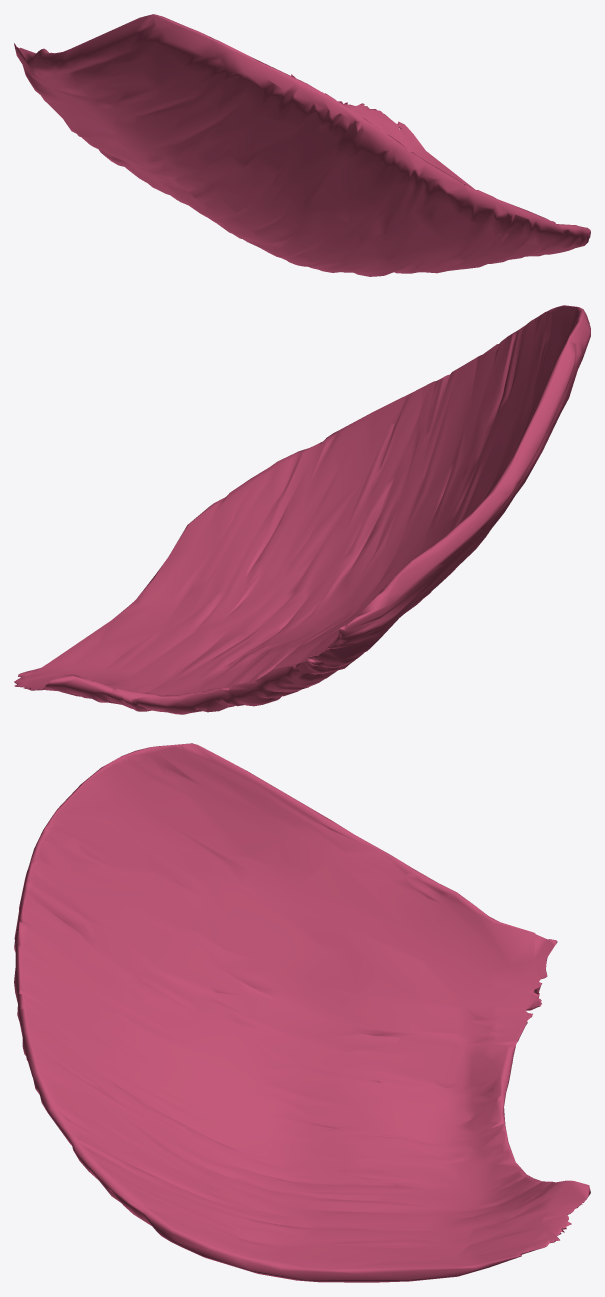
3 renders of one model, top to bottom at view 1: azimuth 30°, elevation 25°; view 2: azimuth 150°, elevation 25°; view 3: azimuth 270°, elevation 25°, orthographic. The views are drawn at different scales.
Visible parts, largest first — view 1: 右侧额肌; view 2: 右侧额肌; view 3: 右侧额肌.
Part boxes in pixels (x1,y1,x2,y2): 右侧额肌: (14,14,590,276); 右侧额肌: (14,305,590,714); 右侧额肌: (14,743,590,1282).
Size of the model in its own units: 0.0861 by 0.0691 by 0.1033.
